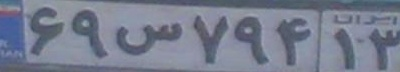character: (116, 7, 186, 65), (67, 6, 114, 64), (187, 9, 233, 67), (24, 1, 67, 63), (233, 8, 274, 71), (275, 9, 315, 72), (366, 26, 400, 72), (330, 25, 360, 72)
